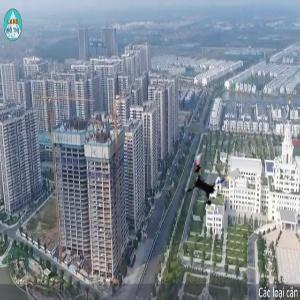drone: (181, 150, 245, 214)
